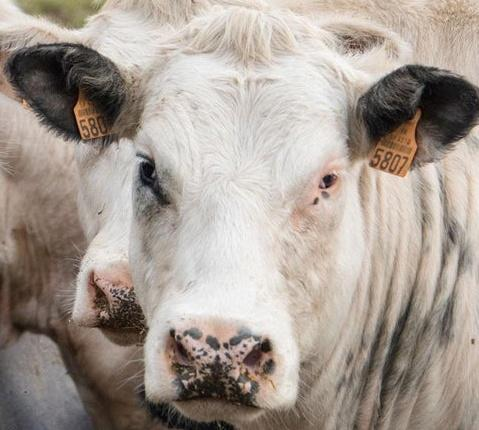muzzles: (138, 303, 303, 427)
